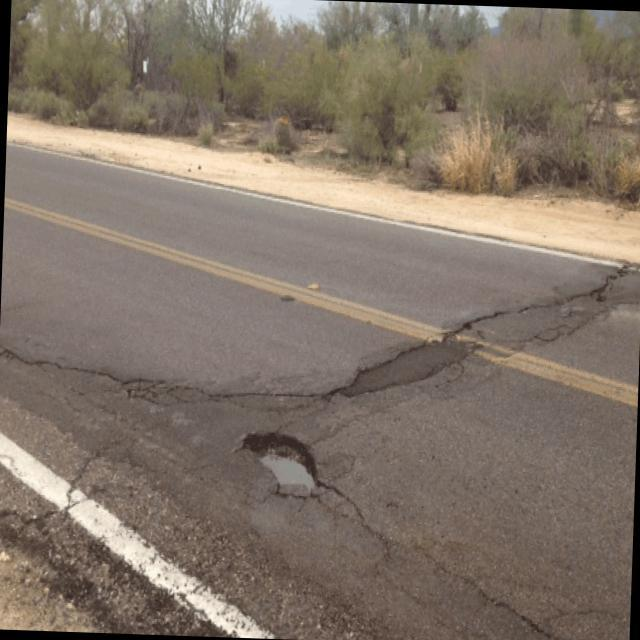Pothole: (311, 187, 640, 413), (224, 386, 322, 518)
